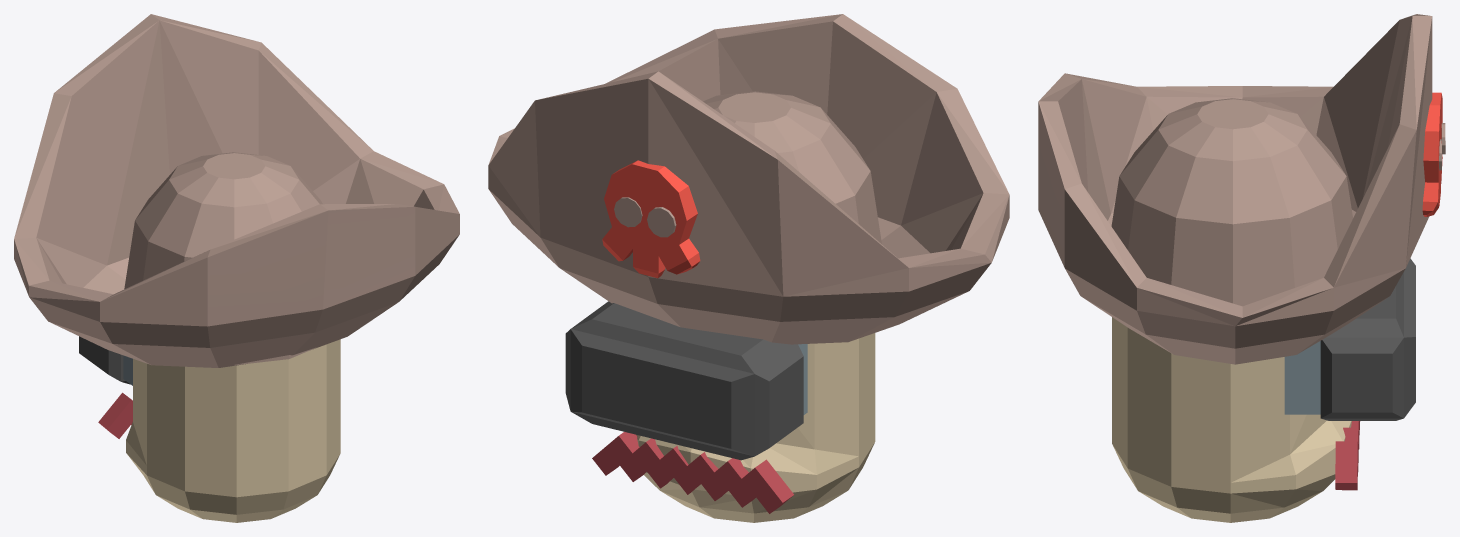
The model's file is Cha_Host.fbx.
3 views of the same model, side by side, from view 1: azimuth 30°, elevation 25°; view 2: azimuth 150°, elevation 25°; view 3: azimuth 270°, elevation 25° (orthographic). The views are drawn at different scales.
Parts seen in each view (by area): view 1: mesh1512100864.001, mesh2125370239, mesh729800656.001, mesh2033485138.001; view 2: mesh1512100864.001, mesh729800656.001, mesh2125370239, mesh2033485138.001; view 3: mesh1512100864.001, mesh2125370239, mesh729800656.001, mesh2033485138.001.
Boxes of the visible parts, bbox=[...] form: mesh1512100864.001: bbox=[14, 14, 459, 367]; mesh2125370239: bbox=[126, 339, 340, 522]; mesh729800656.001: bbox=[79, 336, 132, 385]; mesh2033485138.001: bbox=[98, 392, 132, 438]; mesh1512100864.001: bbox=[488, 14, 1009, 344]; mesh729800656.001: bbox=[565, 301, 807, 460]; mesh2125370239: bbox=[636, 333, 875, 522]; mesh2033485138.001: bbox=[592, 432, 793, 513]; mesh1512100864.001: bbox=[1038, 14, 1445, 364]; mesh2125370239: bbox=[1112, 317, 1351, 522]; mesh729800656.001: bbox=[1284, 258, 1415, 420]; mesh2033485138.001: bbox=[1335, 421, 1360, 490].
Size of the model in its own units: 81 by 79.15 by 59.65.
